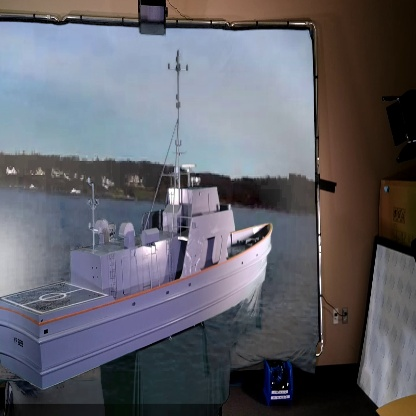YP689: (0, 52, 273, 392)
